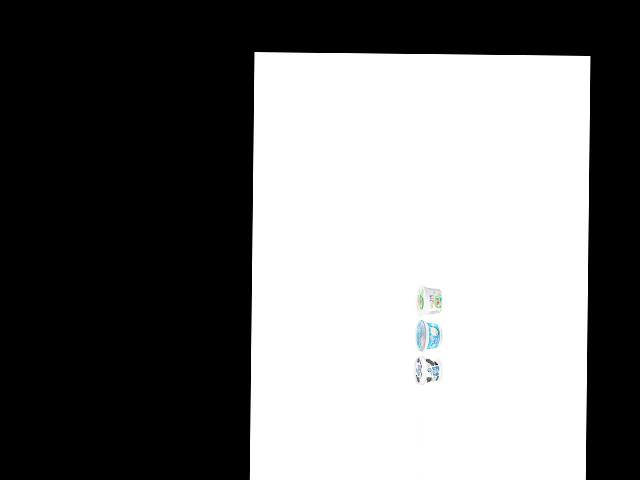cotage: (414, 282, 444, 318)
